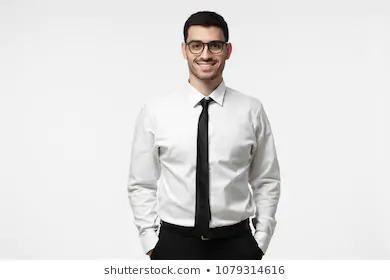F_shirt: (128, 82, 281, 249)
F_tie: (189, 92, 215, 238)
